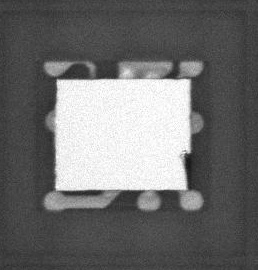DIE_BROKEN: (178, 151, 191, 189)
